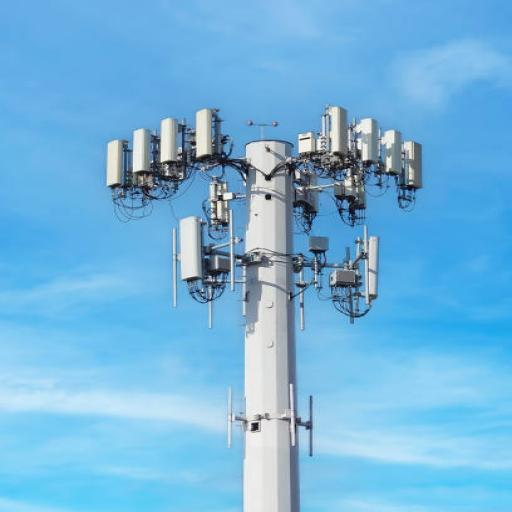monopole_tower: (89, 104, 429, 512)
